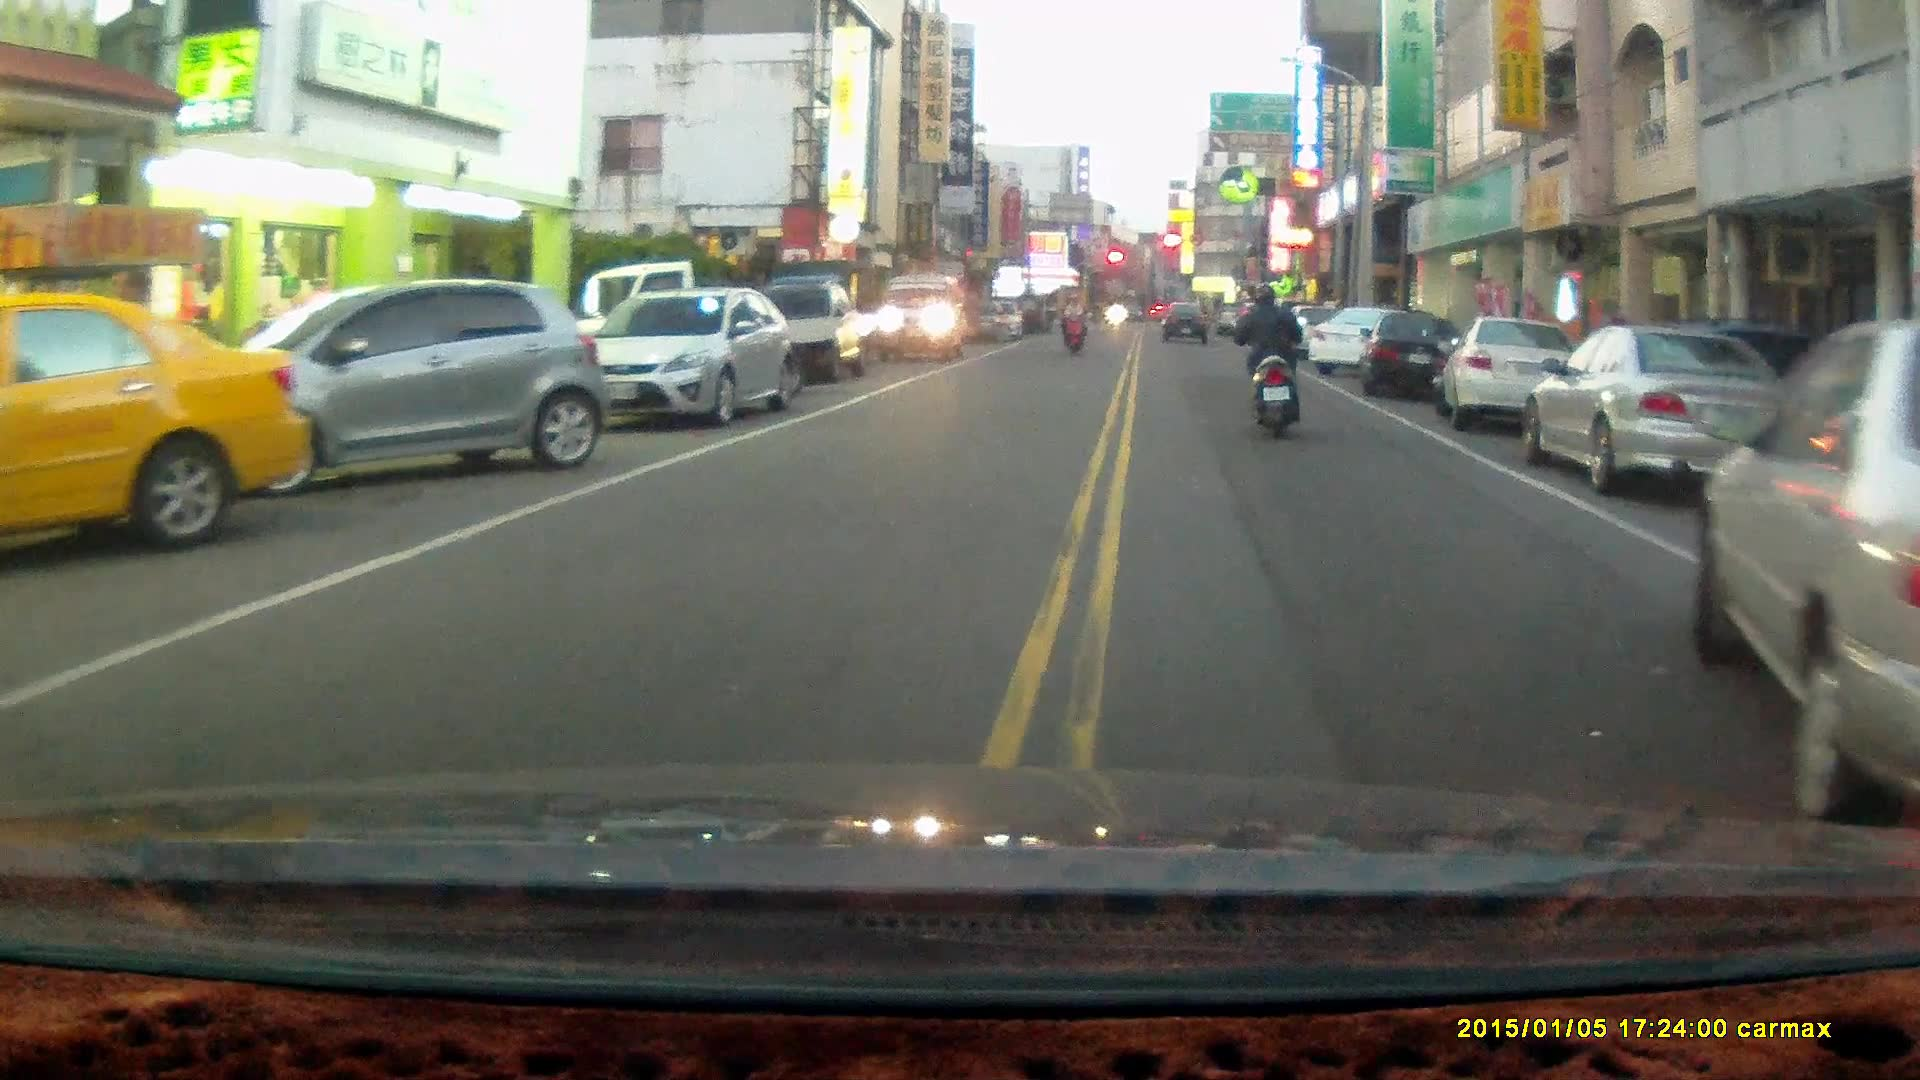rider: (1224, 280, 1299, 439), (1058, 289, 1087, 355)
vehicle: (1689, 315, 1918, 825), (188, 275, 596, 493), (1, 289, 309, 559), (1517, 321, 1800, 499), (576, 283, 802, 428), (1436, 317, 1572, 430), (748, 277, 890, 379), (879, 271, 967, 363)
